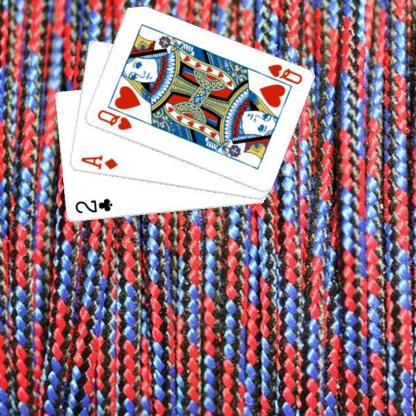2C: (72, 197, 113, 216)
AD: (78, 153, 118, 171)
QH: (257, 61, 304, 90), (94, 107, 133, 132)
